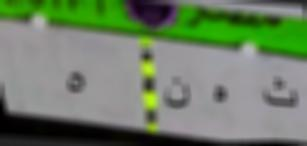5: (61, 64, 91, 100)
haa: (207, 81, 233, 109)
noon: (161, 68, 194, 118)
thaa: (258, 72, 304, 115)
